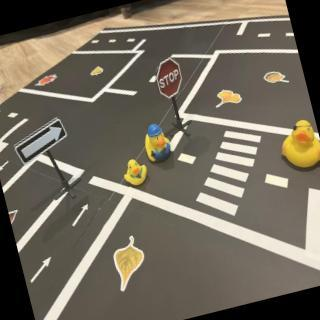duck_regular: (120, 156, 152, 189)
duck_specialty: (273, 114, 320, 178), (139, 117, 177, 168)
road_crosswalk: (178, 119, 284, 232)
road_oneway: (25, 254, 59, 286), (67, 200, 97, 232), (1, 157, 15, 175)
sign_oneway_right: (9, 115, 73, 169)
sign_stop: (154, 57, 187, 101)
